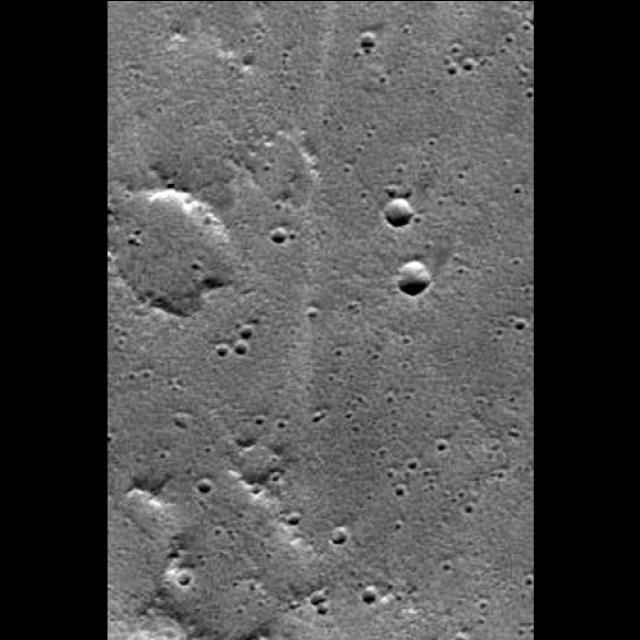crater: (165, 502, 314, 640), (112, 178, 240, 319), (226, 438, 288, 496), (227, 414, 268, 452), (394, 259, 432, 297), (379, 194, 416, 232), (432, 617, 479, 640), (495, 616, 534, 640), (305, 584, 332, 616), (171, 564, 198, 592), (308, 597, 336, 623), (166, 408, 194, 432), (326, 524, 352, 548), (264, 224, 290, 248), (356, 28, 380, 54), (482, 431, 504, 456), (192, 476, 216, 496), (306, 406, 331, 425), (345, 414, 364, 438), (283, 594, 305, 614), (503, 422, 525, 442), (230, 338, 252, 358), (190, 544, 209, 566), (432, 435, 451, 457), (284, 509, 302, 532), (445, 38, 465, 58), (389, 482, 411, 500), (402, 454, 420, 476), (212, 339, 230, 361), (359, 584, 378, 604), (304, 304, 324, 322), (237, 322, 255, 342), (265, 468, 285, 486), (396, 20, 414, 40), (397, 180, 413, 202), (512, 315, 530, 334), (424, 131, 439, 153), (192, 553, 210, 571), (342, 297, 360, 315), (488, 466, 508, 482), (459, 56, 475, 76), (508, 178, 524, 198), (350, 300, 364, 322), (401, 579, 418, 597), (381, 183, 399, 200), (209, 522, 225, 540), (459, 499, 475, 517), (350, 140, 368, 156), (133, 628, 156, 640), (232, 507, 248, 523), (130, 451, 146, 467), (252, 411, 268, 427), (240, 50, 256, 66), (150, 100, 166, 116), (228, 574, 242, 592), (418, 462, 432, 480), (154, 447, 170, 462), (383, 463, 398, 479), (338, 160, 353, 176), (286, 78, 300, 95), (224, 57, 237, 75), (185, 614, 199, 630), (198, 443, 214, 457), (400, 390, 414, 406), (368, 348, 382, 364), (352, 390, 366, 406), (272, 418, 288, 432), (409, 210, 423, 226), (453, 166, 467, 182), (508, 251, 522, 267), (374, 73, 390, 87), (110, 209, 124, 225), (332, 120, 346, 136), (331, 374, 347, 388), (301, 379, 315, 395), (286, 321, 299, 338), (318, 111, 331, 128), (322, 630, 344, 640), (190, 627, 208, 639), (221, 526, 239, 538), (418, 408, 436, 420), (438, 558, 453, 572), (342, 407, 356, 422), (119, 514, 132, 530), (364, 448, 380, 461), (198, 213, 214, 226), (393, 158, 406, 174), (421, 237, 434, 253), (501, 28, 514, 44), (387, 429, 400, 445), (362, 631, 384, 640), (390, 518, 404, 532), (399, 332, 413, 346), (352, 292, 366, 306), (258, 160, 272, 174), (162, 178, 176, 192), (474, 614, 486, 630), (226, 532, 242, 544), (231, 523, 243, 539), (180, 465, 196, 477), (286, 228, 298, 244), (122, 368, 138, 380), (443, 64, 459, 76), (254, 596, 267, 610), (190, 603, 203, 617), (261, 548, 274, 562), (429, 465, 443, 478), (118, 327, 132, 340), (343, 371, 357, 384), (107, 200, 116, 220), (233, 604, 246, 617), (457, 195, 470, 208), (473, 394, 486, 407), (210, 608, 222, 622), (348, 564, 360, 578), (324, 563, 336, 577), (376, 446, 390, 458), (371, 456, 385, 468), (398, 358, 412, 370), (332, 346, 344, 360), (250, 482, 262, 496), (141, 368, 155, 380), (112, 335, 126, 347), (188, 258, 200, 272), (270, 198, 282, 212), (356, 188, 370, 200), (520, 20, 532, 34), (252, 30, 266, 42), (426, 82, 438, 96), (297, 632, 317, 640), (190, 630, 206, 640), (245, 580, 258, 592), (506, 313, 518, 326), (427, 400, 440, 412), (449, 250, 462, 262), (453, 264, 466, 276), (504, 392, 516, 405), (469, 547, 481, 560), (324, 369, 336, 382), (156, 631, 172, 640), (522, 282, 534, 294), (452, 419, 464, 431), (386, 404, 398, 416), (248, 316, 260, 328), (522, 88, 534, 100), (278, 48, 290, 60), (464, 536, 476, 548), (368, 378, 380, 390), (232, 318, 242, 332), (362, 130, 376, 140), (451, 632, 468, 640), (236, 32, 246, 45), (472, 632, 488, 640), (292, 632, 308, 640), (282, 632, 298, 640), (441, 632, 456, 640), (493, 325, 505, 335), (522, 292, 534, 302), (522, 462, 532, 474), (384, 392, 394, 404), (407, 386, 419, 396), (266, 453, 278, 463), (434, 195, 444, 207), (258, 23, 268, 35), (458, 381, 468, 393), (407, 632, 421, 640), (374, 632, 388, 640), (356, 632, 370, 640), (382, 582, 396, 590), (364, 490, 373, 502), (387, 419, 400, 427), (420, 634, 437, 640), (394, 592, 404, 602), (320, 585, 330, 595), (456, 488, 466, 498), (514, 462, 524, 472), (427, 482, 437, 492), (123, 189, 133, 199), (484, 264, 494, 274), (497, 45, 507, 55), (252, 20, 262, 30), (477, 600, 489, 608), (473, 634, 489, 640), (258, 536, 266, 548), (399, 634, 414, 640), (377, 634, 392, 640), (354, 634, 369, 640), (133, 238, 142, 248), (132, 227, 142, 236), (479, 634, 493, 640), (343, 634, 357, 640), (209, 634, 223, 640), (107, 431, 113, 445), (523, 576, 533, 584), (389, 634, 402, 640), (252, 635, 266, 640), (224, 635, 238, 640), (413, 634, 424, 640), (336, 634, 347, 640), (180, 634, 191, 640), (303, 634, 314, 640), (194, 635, 207, 640), (227, 635, 240, 640), (212, 628, 220, 636), (518, 626, 524, 636), (407, 635, 419, 640), (446, 634, 456, 640), (282, 635, 294, 640), (139, 634, 149, 640), (115, 635, 127, 640), (156, 635, 168, 640), (475, 636, 489, 640), (418, 636, 432, 640), (266, 636, 280, 640), (341, 636, 354, 640), (235, 636, 248, 640), (156, 636, 169, 640), (504, 635, 514, 640), (186, 635, 196, 640), (176, 635, 186, 640), (408, 636, 420, 640), (424, 636, 436, 640), (186, 636, 198, 640), (136, 636, 148, 640), (438, 635, 447, 640), (503, 635, 512, 640), (464, 636, 474, 640), (474, 636, 484, 640), (518, 636, 528, 640), (506, 636, 516, 640), (443, 636, 453, 640), (452, 636, 462, 640), (390, 636, 400, 640), (346, 635, 354, 640), (214, 636, 224, 640), (128, 636, 138, 640), (190, 636, 200, 640), (300, 635, 308, 640), (330, 636, 339, 640), (520, 636, 528, 640), (108, 636, 116, 640), (528, 628, 533, 634), (418, 637, 428, 640), (384, 637, 394, 640), (223, 637, 233, 640), (177, 636, 184, 640), (198, 637, 206, 640), (530, 635, 534, 640), (110, 637, 116, 640), (517, 637, 522, 640)
